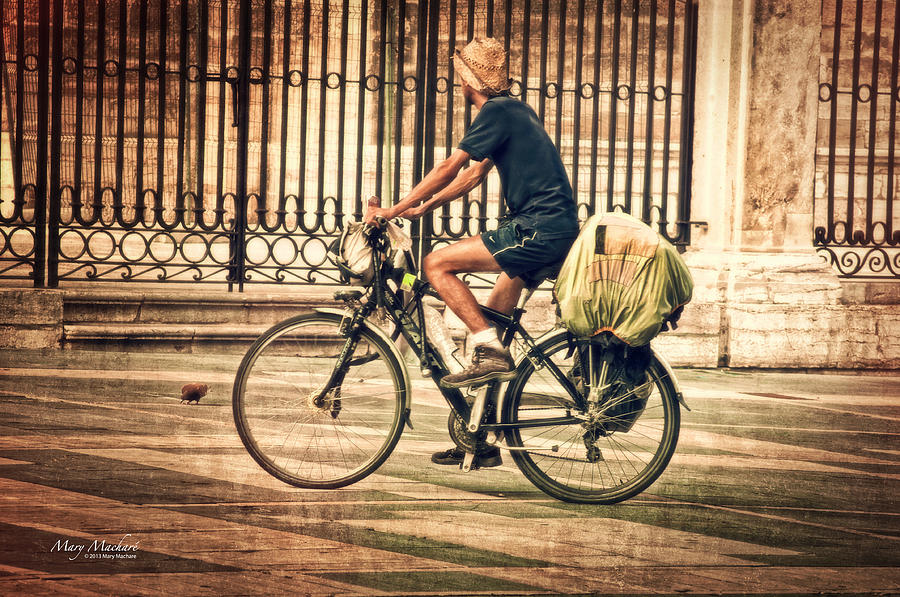commuter: (232, 36, 690, 507)
